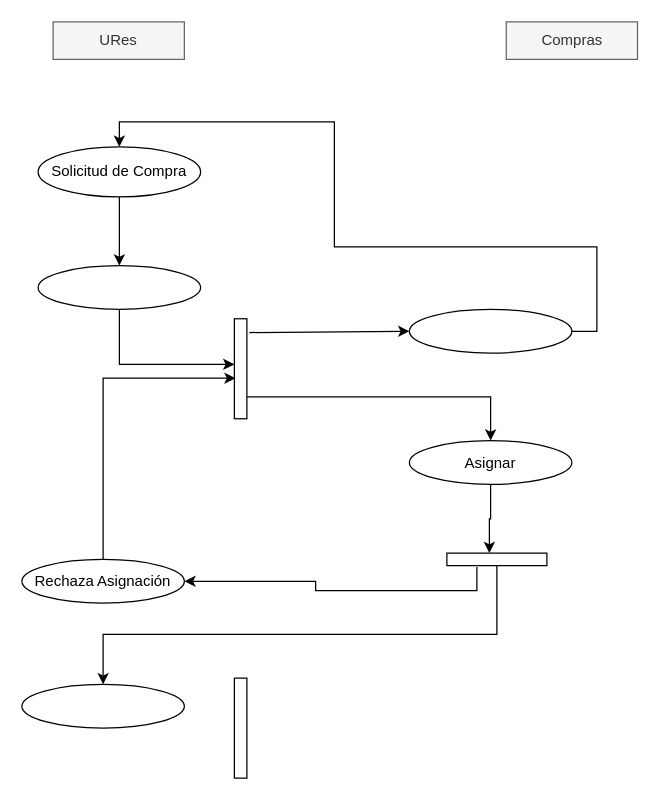
This 660x800 diagram has some shape labels left out. The box of each missing label's shape, as (x1, y1, x2, y2) in pixels:
Acepta Asignación: (21, 683, 184, 728)
Envia a Compras: (37, 264, 201, 309)
Regresa URes: (408, 308, 572, 353)
